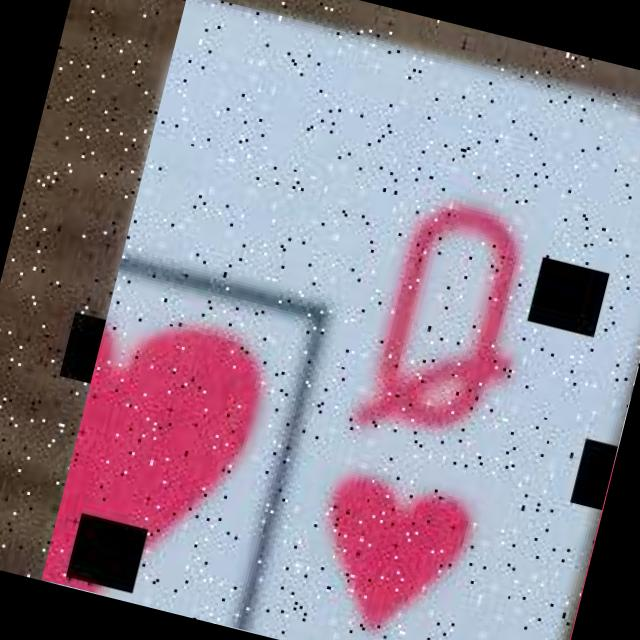Queen of hearts: (41, 0, 640, 640)
